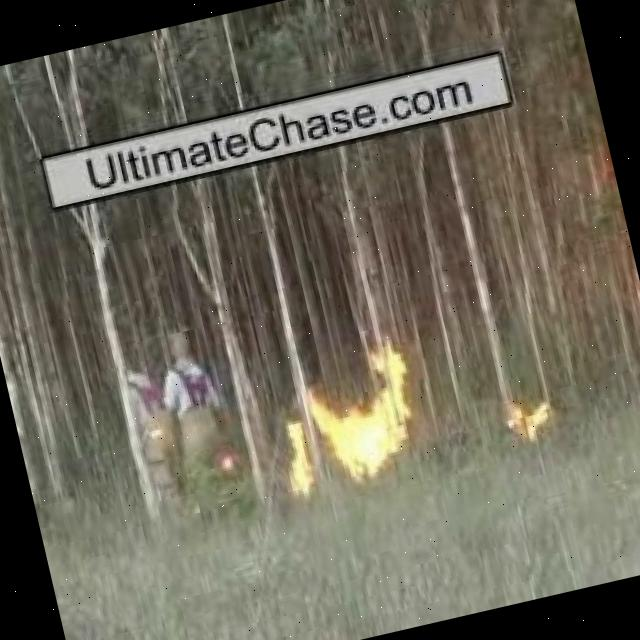fire: (308, 359, 433, 487), (504, 392, 564, 450), (278, 422, 320, 500)
